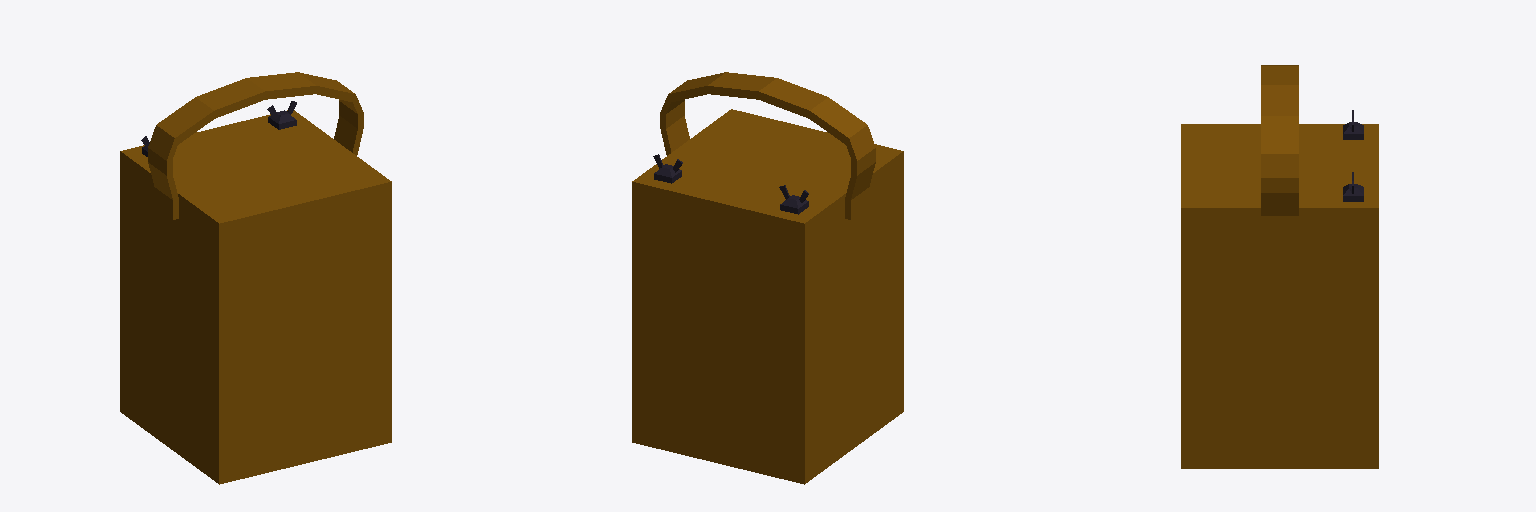
3 renders of one model, left to right at view 1: azimuth 30°, elevation 25°; view 2: azimuth 150°, elevation 25°; view 3: azimuth 270°, elevation 25°, orthographic.
Visible parts, largest first — view 1: Detonator.001; view 2: Detonator.001; view 3: Detonator.001.
Part boxes in pixels (bbox=[...]): Detonator.001: bbox=[120, 72, 391, 484]; Detonator.001: bbox=[632, 72, 903, 484]; Detonator.001: bbox=[1181, 65, 1378, 468].
Size of the model in its own units: 0.0458 by 0.0759 by 0.0399.
Materials: 1 (1 with a texture image).